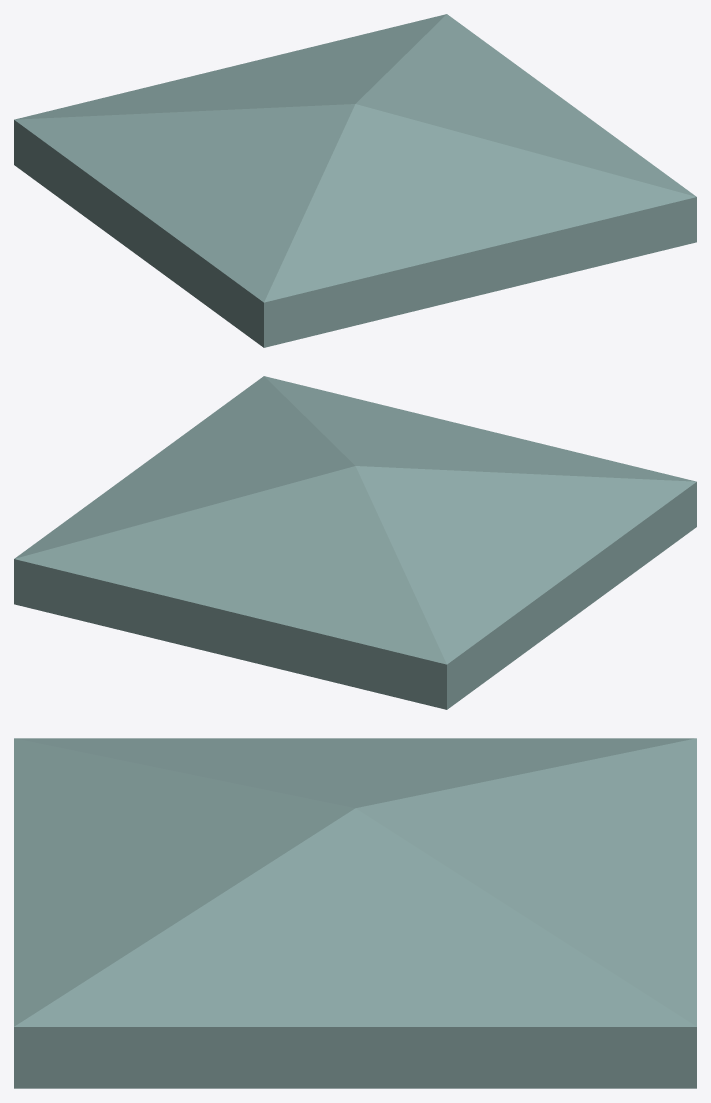
File: naturePack_005.fbx
The picture shows the model from 3 angles, top to bottom: view 1: azimuth 30°, elevation 25°; view 2: azimuth 150°, elevation 25°; view 3: azimuth 270°, elevation 25°; orthographic projection. The views are drawn at different scales.
Parts seen in each view (by area): view 1: naturePack_005; view 2: naturePack_005; view 3: naturePack_005.
Part boxes in pixels (x1,y1,x2,y2): naturePack_005: (14,14,696,347); naturePack_005: (14,376,696,709); naturePack_005: (14,738,696,1088).
Size of the model in its own units: 300 by 66 by 300.
